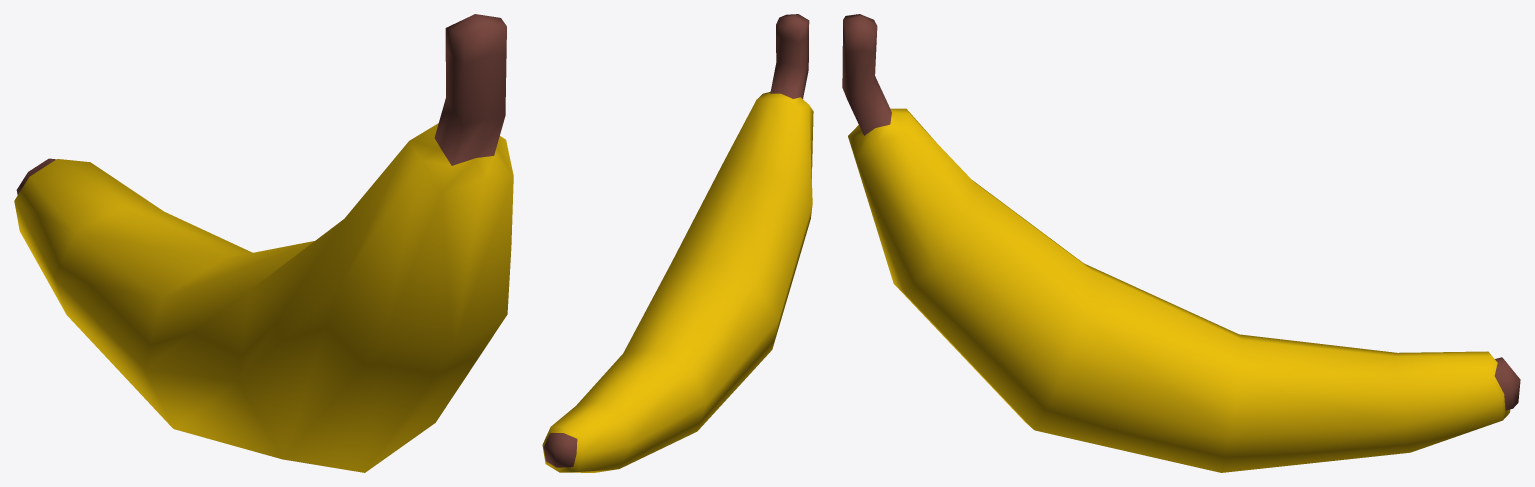
File: SM_Momki_Banana_001.fbx
The picture shows the model from 3 angles, left to right: view 1: azimuth 30°, elevation 25°; view 2: azimuth 150°, elevation 25°; view 3: azimuth 270°, elevation 25°; orthographic projection. The views are drawn at different scales.
Parts seen in each view (by area): view 1: SM_Momki_Banana.001; view 2: SM_Momki_Banana.001; view 3: SM_Momki_Banana.001.
Part boxes in pixels (box(x1,y1,x2,y2)): SM_Momki_Banana.001: box(14, 14, 513, 472); SM_Momki_Banana.001: box(542, 14, 813, 472); SM_Momki_Banana.001: box(842, 14, 1520, 472).
Bounding box in the file's own units: 38.04 × 10.31 × 27.93.
